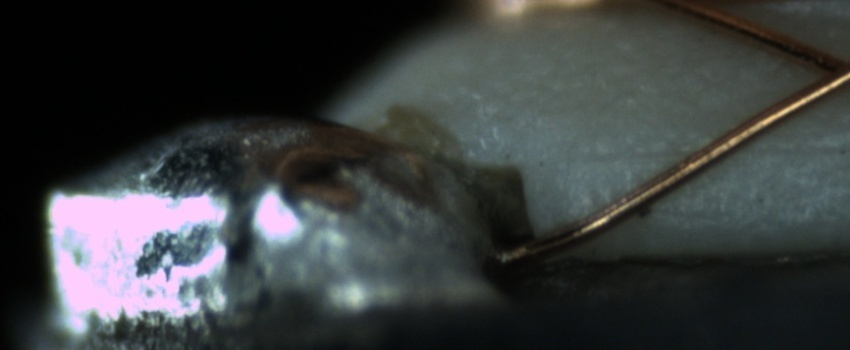CL: (796, 40, 849, 103)
DL: (568, 120, 846, 180)
